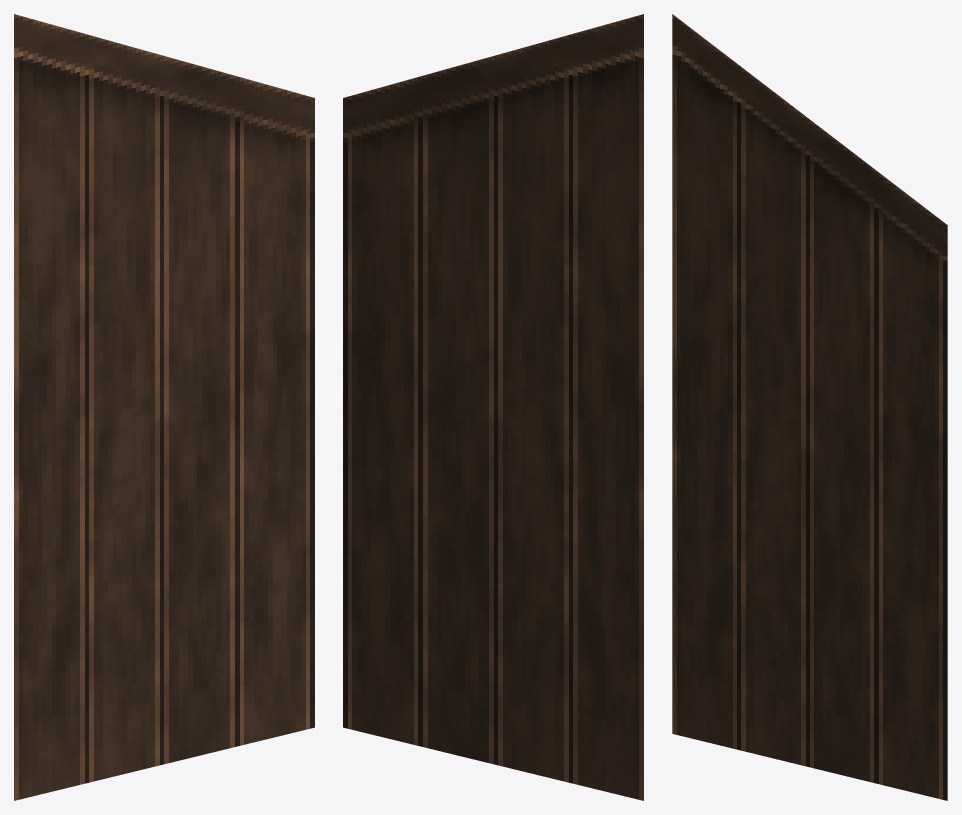
Rendered from house_side_roof_4.glb.
3 renders of one model, left to right at view 1: azimuth 30°, elevation 25°; view 2: azimuth 150°, elevation 25°; view 3: azimuth 330°, elevation 25°, orthographic. The views are drawn at different scales.
Visible parts, largest first — view 1: house_side_roof_4; view 2: house_side_roof_4; view 3: house_side_roof_4.
Boxes of the visible parts, box(x1,y1,x2,y2) form: house_side_roof_4: box(14, 14, 314, 800); house_side_roof_4: box(343, 14, 643, 800); house_side_roof_4: box(672, 14, 947, 800).
Size of the model in its own units: 1 by 2.5 by 3.58e-07.
Materials: 1 (1 with a texture image).
